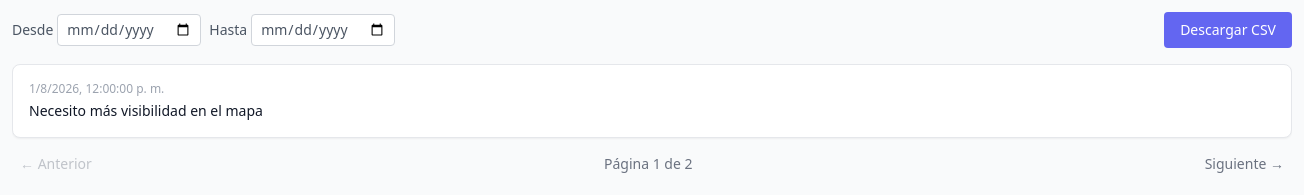
NecesidadesReportadasPage › cambiar el filtro 'Desde' resetea a la página 1 y filtra la consulta por fecha
The image size is (1304, 195).
Check: the text "Página 1 de 2" is shown, box x1=604 y1=154 x2=692 y2=174
Click the button "Siguiente →": (1244, 164) x1=1197 y1=150 x2=1292 y2=178
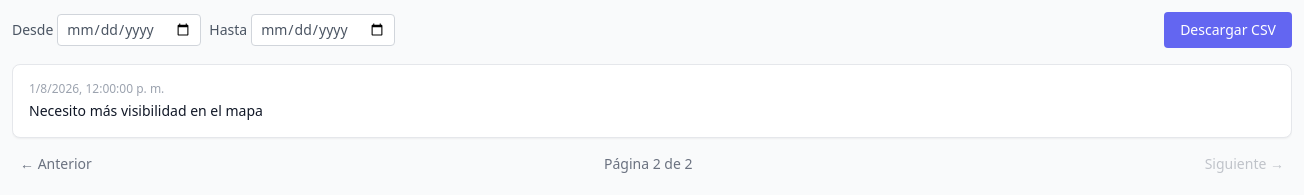
Check: the text "Página 2 de 2" is shown, box x1=604 y1=154 x2=692 y2=174
In the date field labelled "Desde": (129, 30) x1=57 y1=14 x2=201 y2=46, type "2026-08-01"
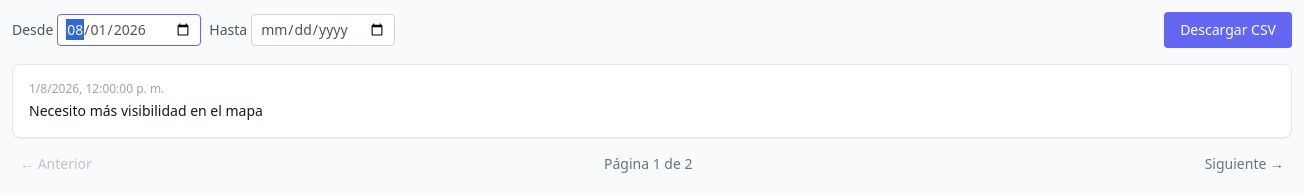
Check: the text "Página 1 de 2" is shown, box x1=604 y1=154 x2=692 y2=174
